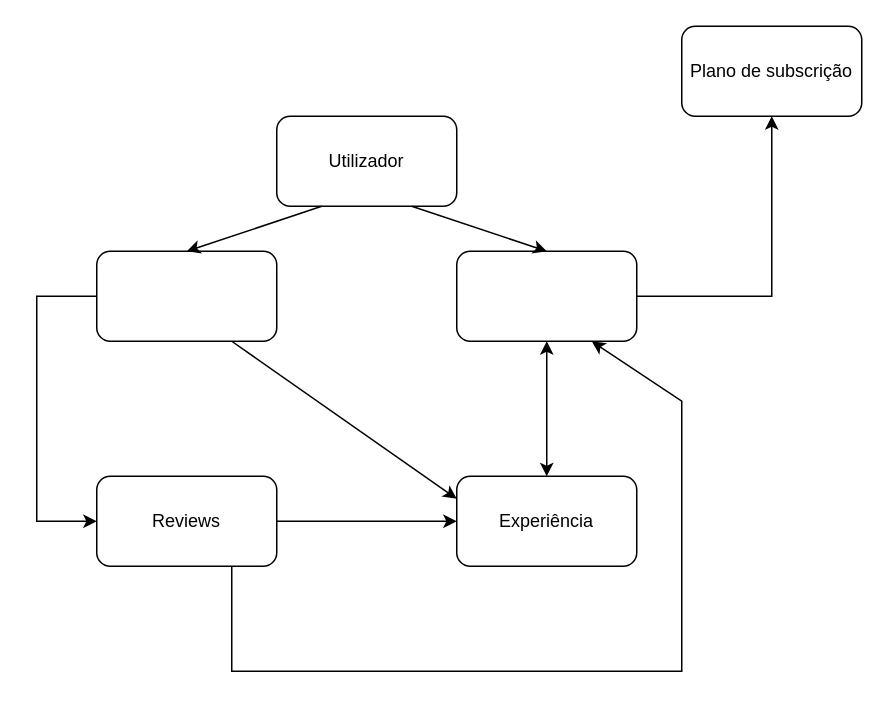
The diagram is 888 pixels wide and 710 high, and some of its shapes have lost their labels. Here are the shapes that lost their labels. From the top down, the centre of each, then its label:
At [186,295]: "Turista".
At [546,295]: "Guia".
